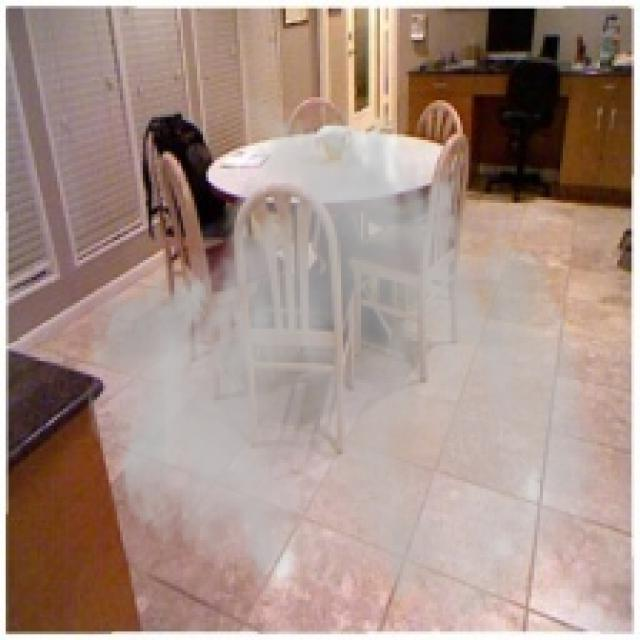smoke: (80, 89, 609, 628)
